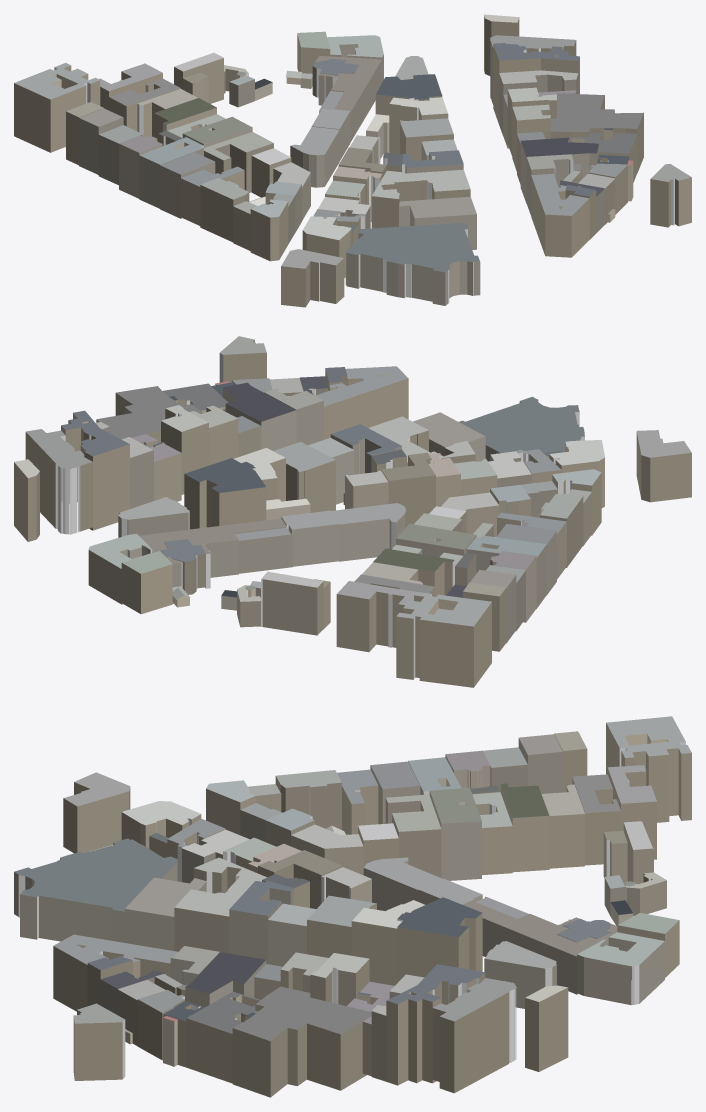
The picture shows the model from 3 angles, top to bottom: view 1: azimuth 30°, elevation 25°; view 2: azimuth 150°, elevation 25°; view 3: azimuth 270°, elevation 25°; orthographic projection. The views are drawn at different scales.
Visible parts, largest first — view 1: tuile; view 2: tuile; view 3: tuile.
Boxes of the visible parts, x1,y1,x2,y2 form: tuile: [14, 14, 691, 307]; tuile: [14, 336, 691, 687]; tuile: [14, 716, 691, 1097].
Size of the model in its own units: 290 by 43.07 by 284.
